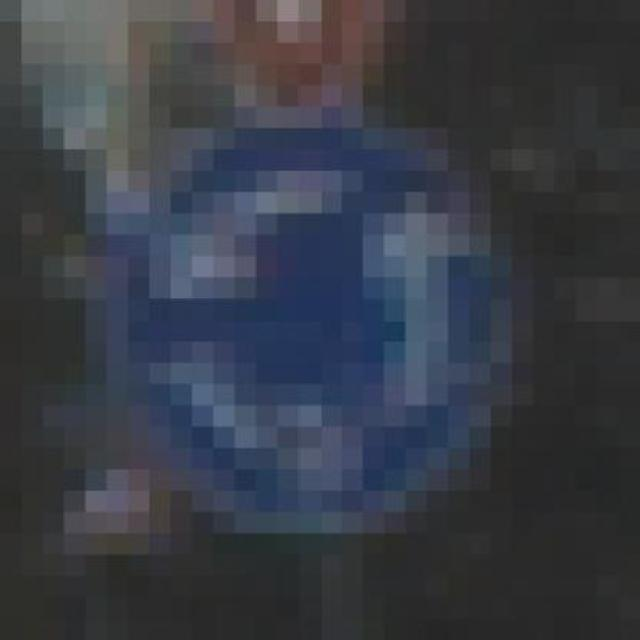Round-About: (63, 86, 554, 554)
